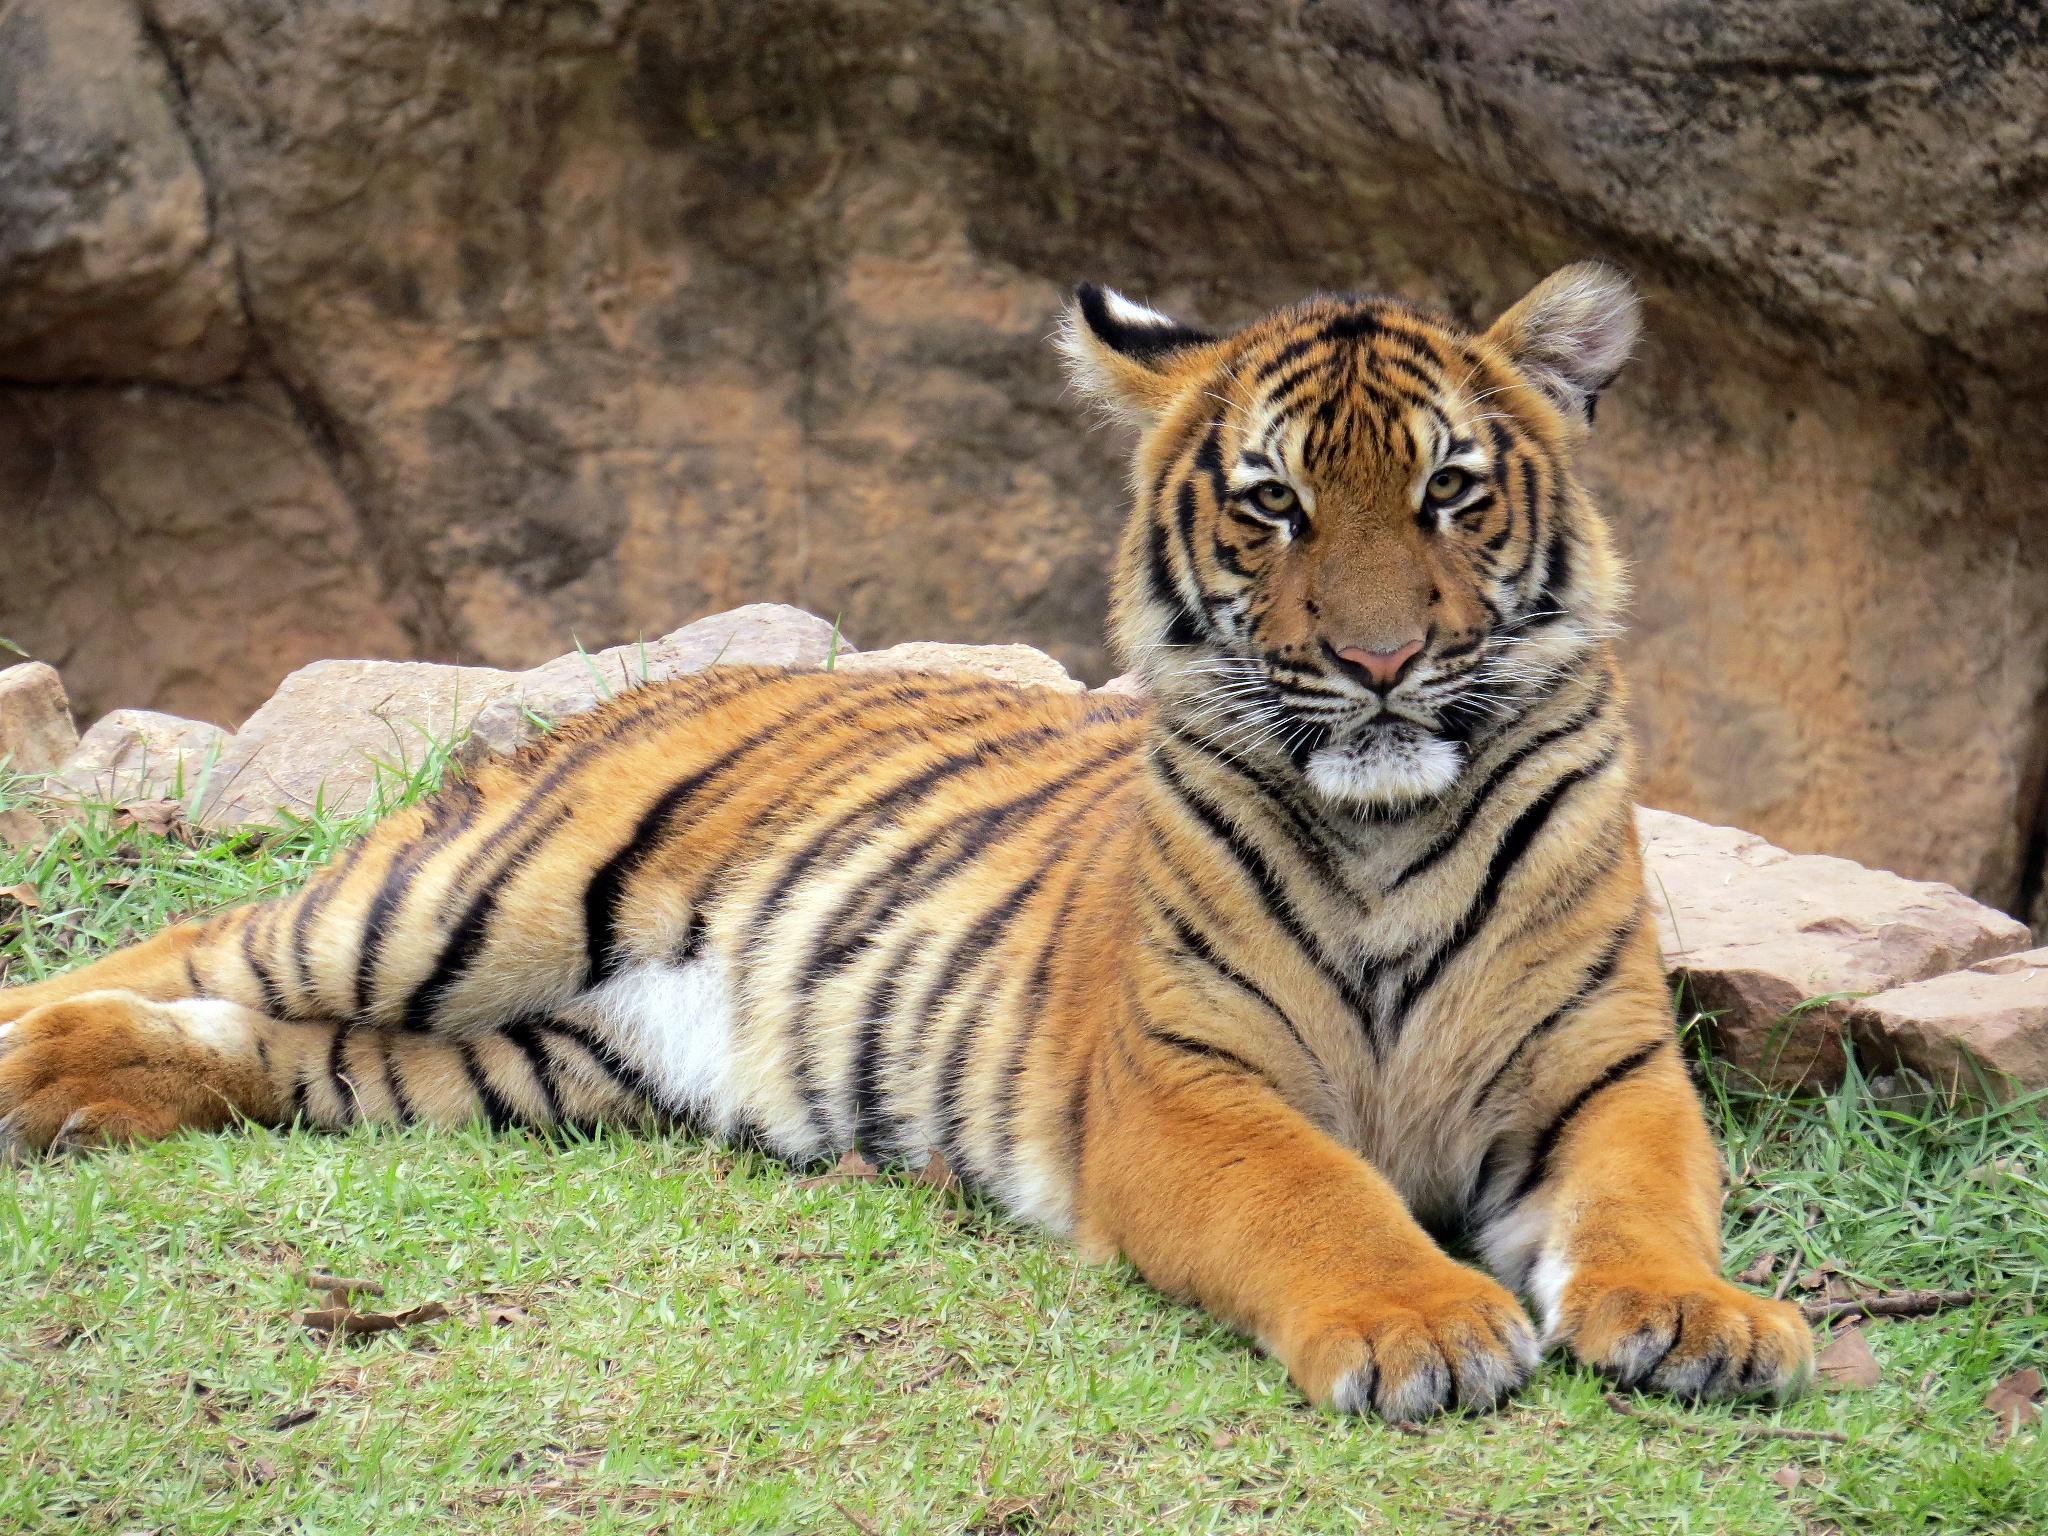tiger: (434, 281, 1909, 1379)
